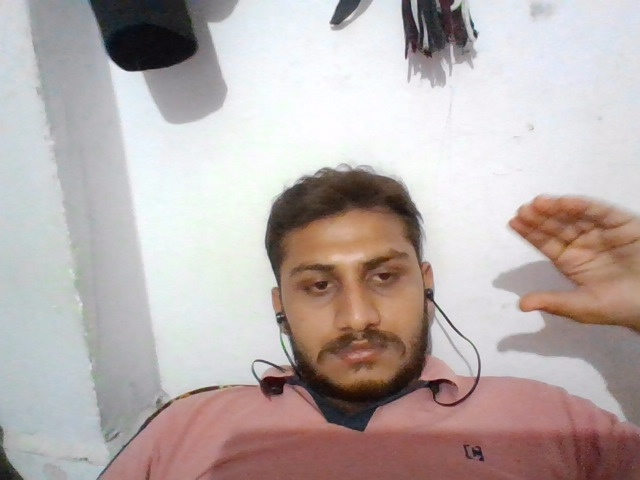No: (496, 181, 640, 326)
